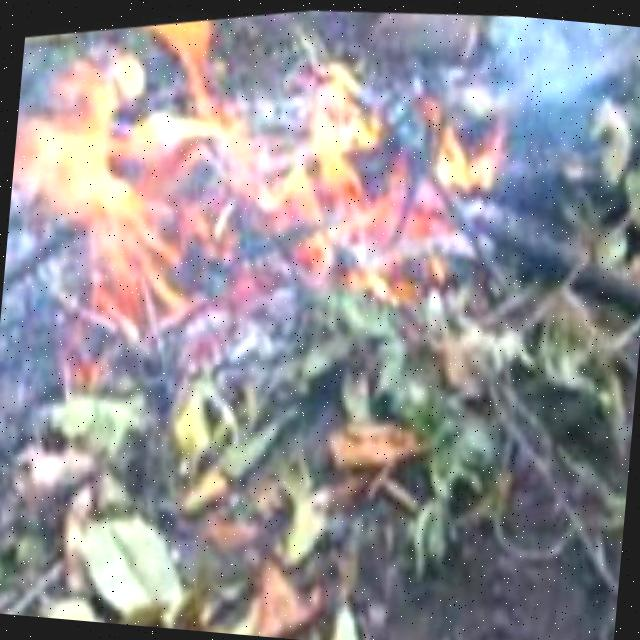fire: (0, 0, 476, 363)
